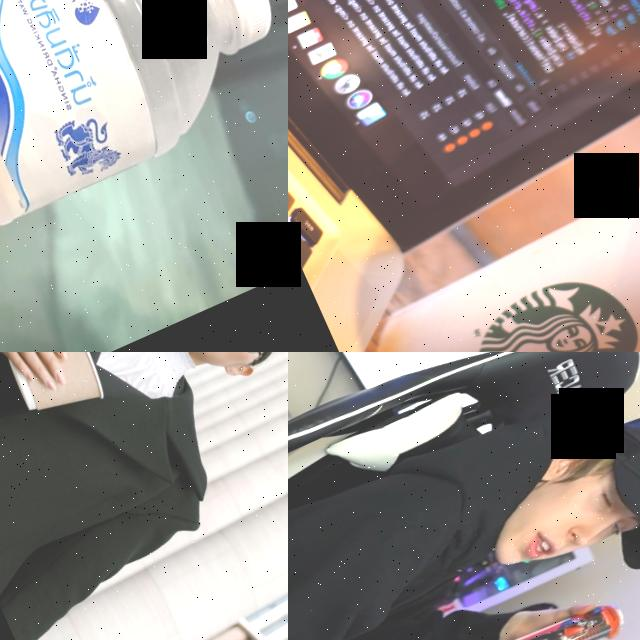bottle: (0, 0, 288, 335)
can: (483, 588, 633, 640)
cup: (343, 118, 640, 352), (0, 352, 110, 434)
